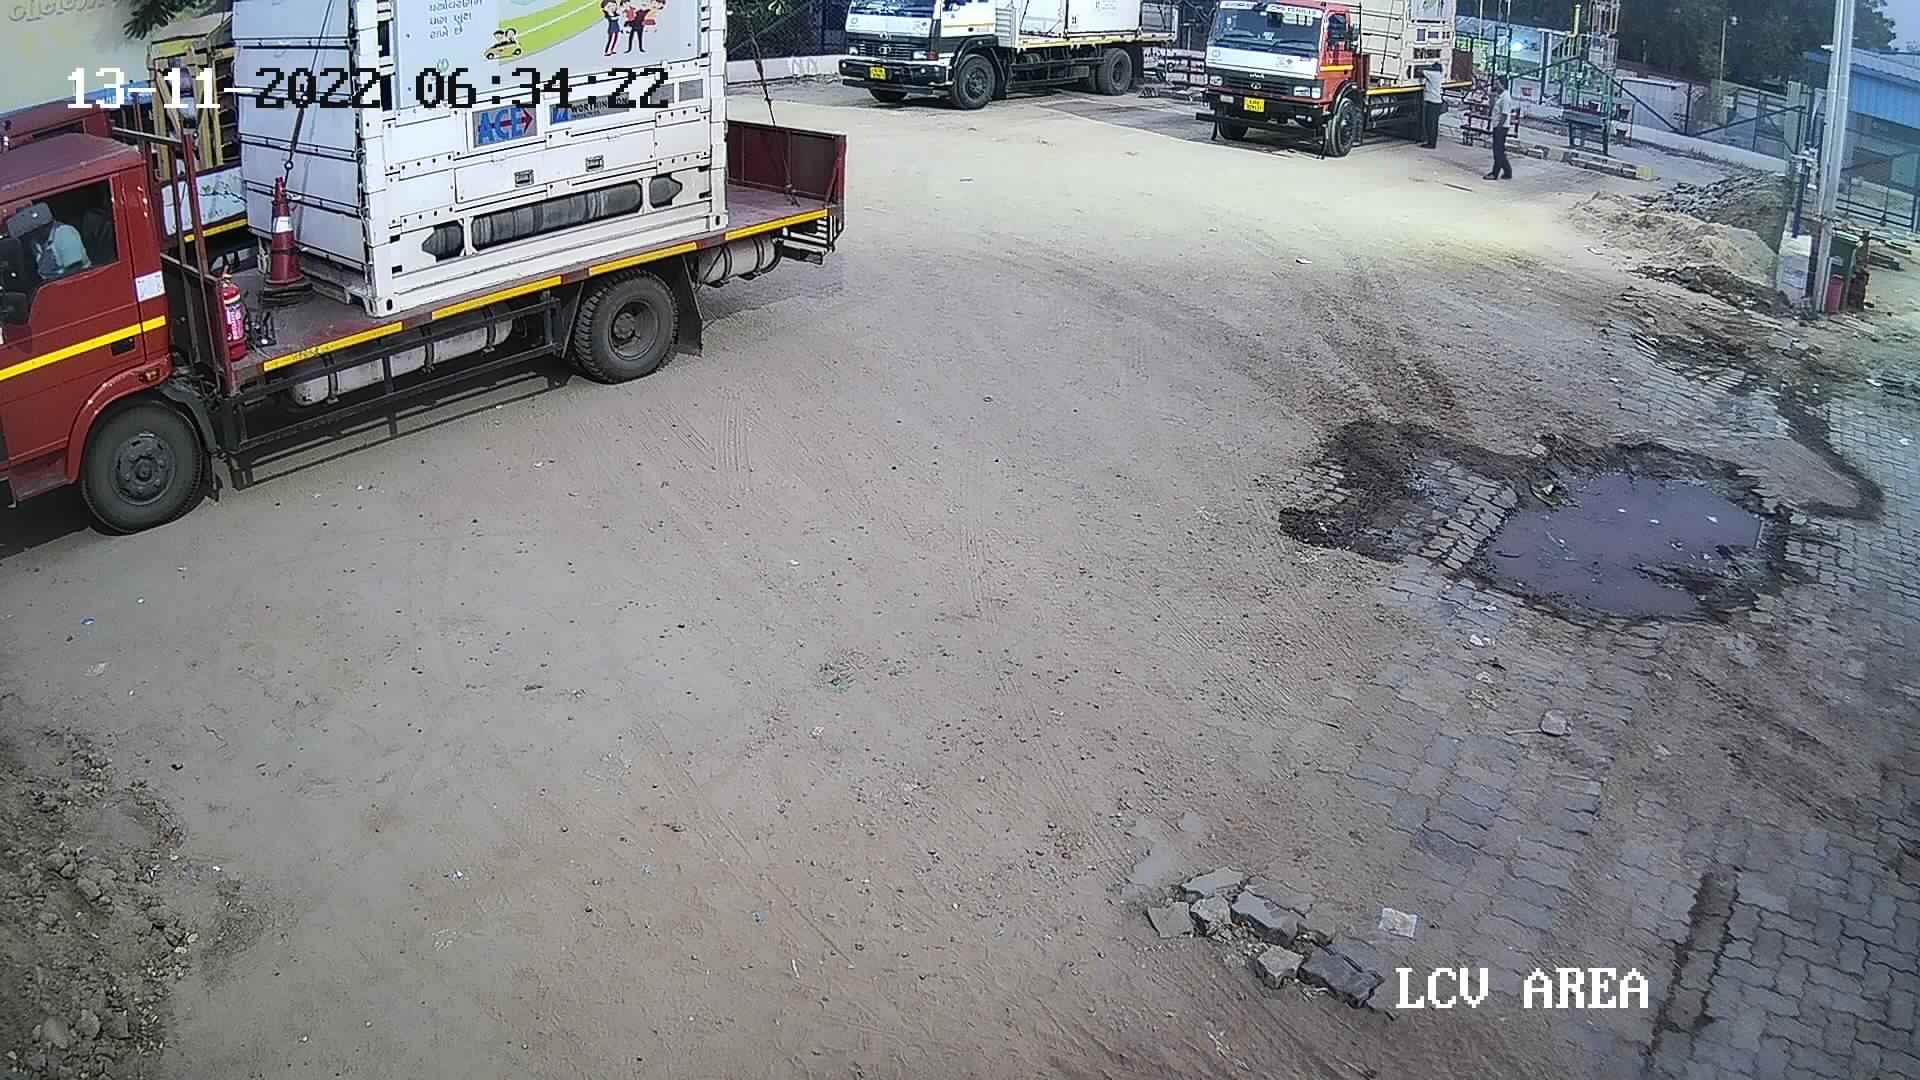HMV: (5, 0, 855, 539), (3, 1, 266, 280), (1179, 3, 1485, 166), (825, 1, 1189, 111)
